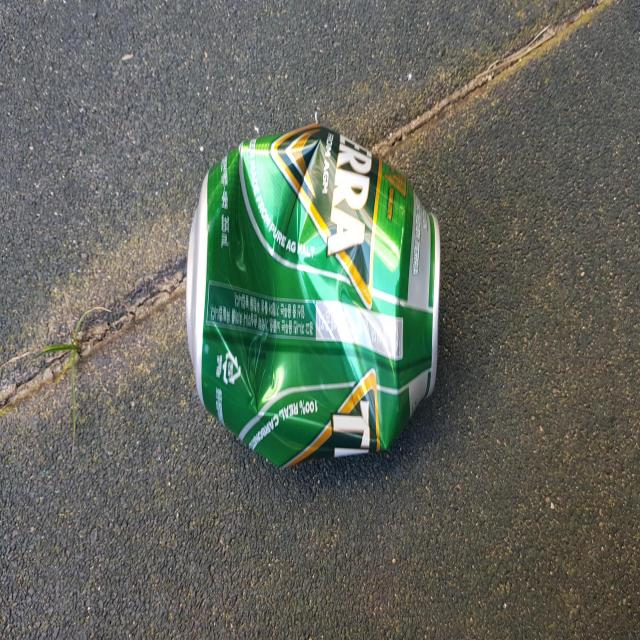can: (186, 123, 441, 465)
